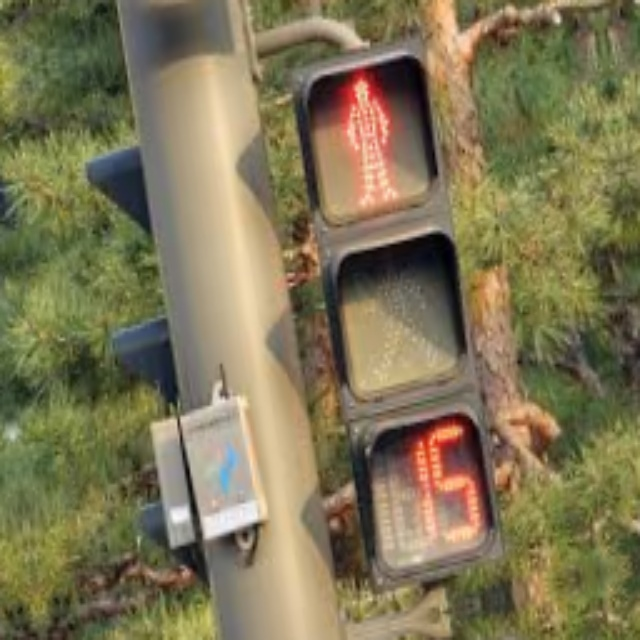red_light: (399, 417, 493, 563), (328, 66, 405, 213)
